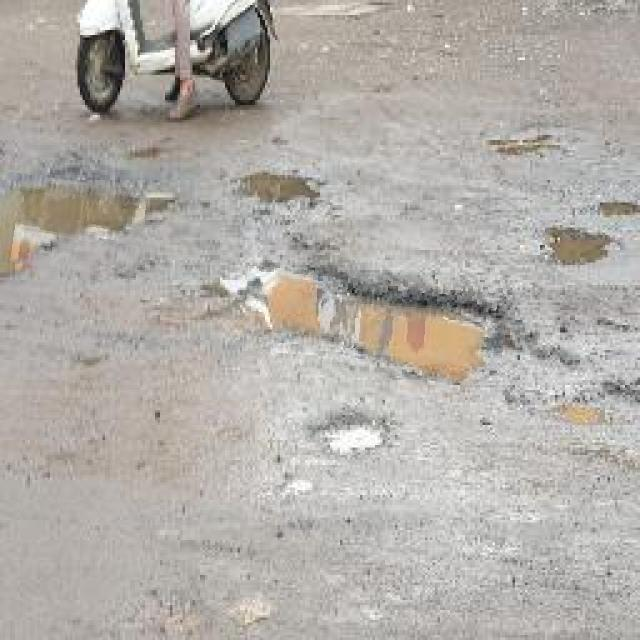puddle: (244, 272, 507, 382), (1, 178, 146, 277)
